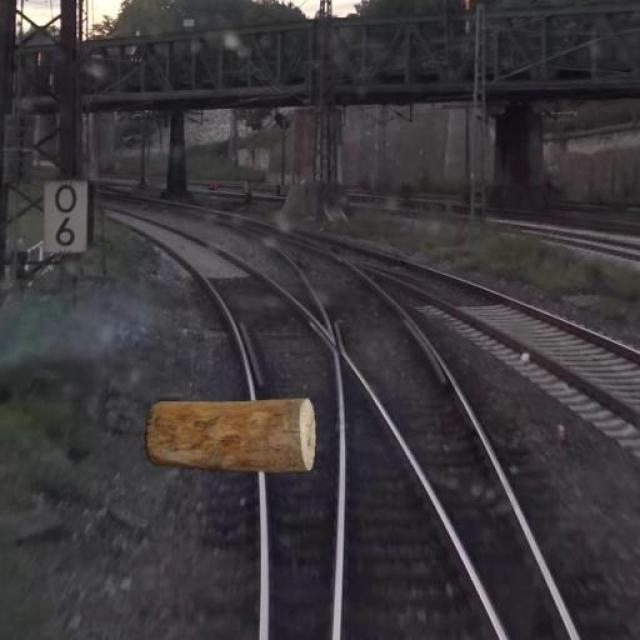Branches: (139, 391, 330, 478)
